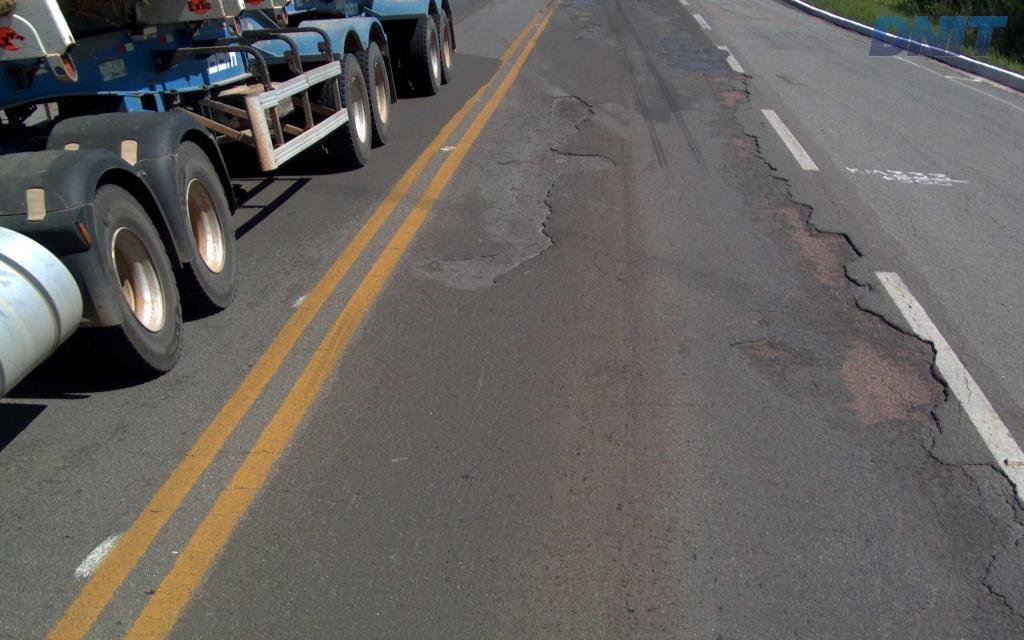pothole: (700, 64, 1022, 638), (418, 88, 626, 290)
